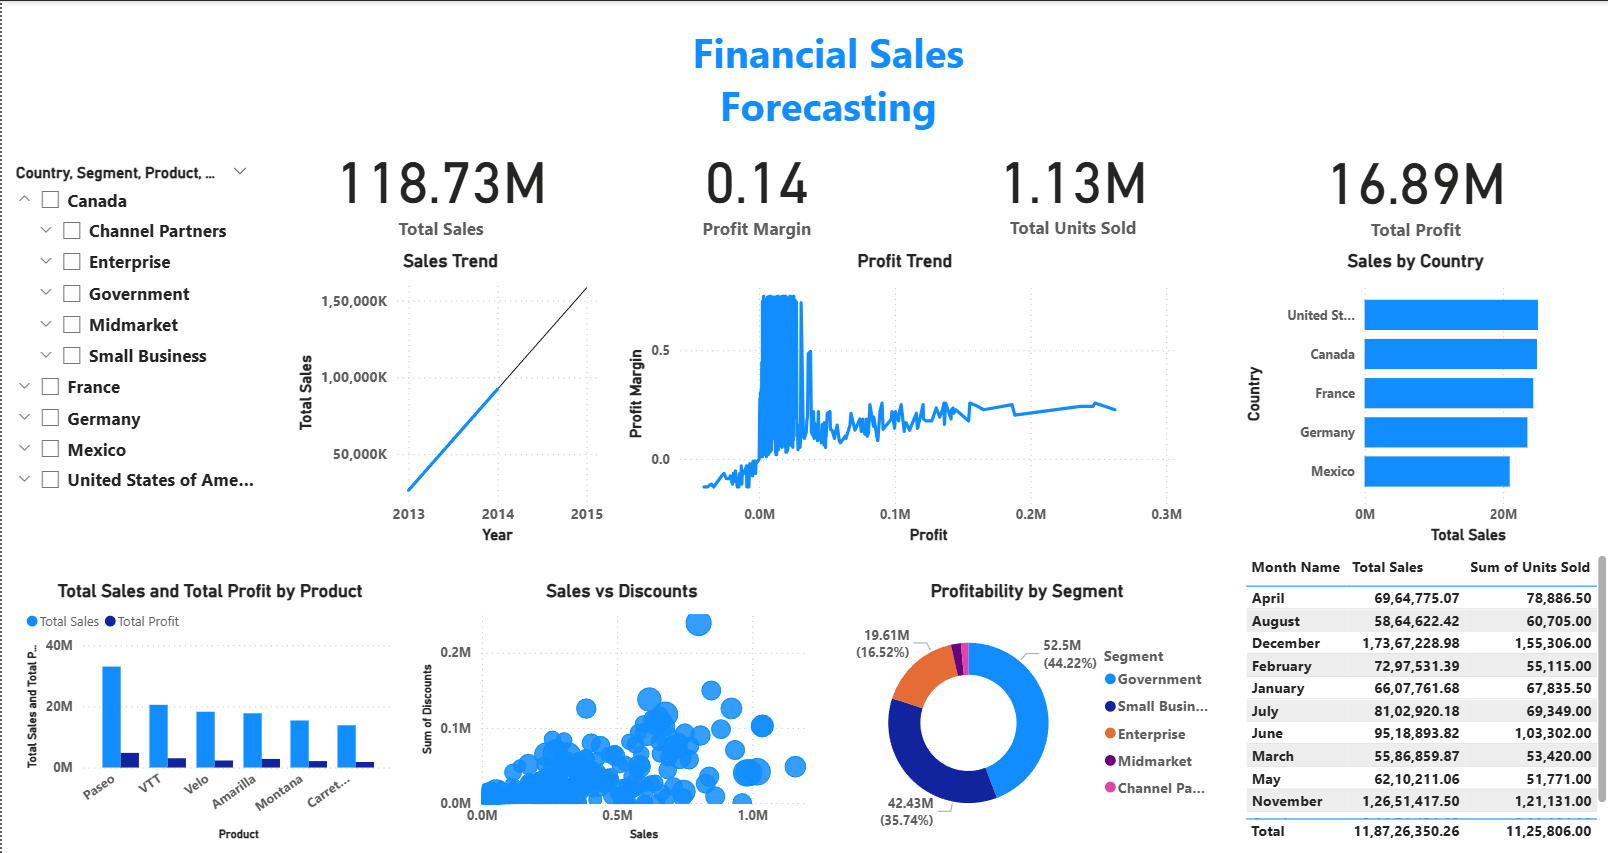

Layout of this report page (visuals, bound fields, positions):
{"tool":"powerbi","page":{"name":"FINANCIAL SALES FORECASTING","canvas":[1500,800],"ordinal":0},"visuals":[{"type":"lineChart","title":"Sales Trend","fields":{"Category":["Financials.Date.Variation.Date Hierarchy.Year","Financials.Date.Variation.Date Hierarchy.Quarter","Financials.Date.Variation.Date Hierarchy.Month","Financials.Date.Variation.Date Hierarchy.Day"],"Y":["Financials.Total Sales"]},"box":[269.8,231.7,295.7,279.3],"z":0},{"type":"card","fields":{"Values":["Financials.Total Sales"]},"box":[283.9,123.9,250.2,99.9],"z":1000},{"type":"card","fields":{"Values":["Financials.Total Profit"]},"box":[1201.9,123.9,231,101.1],"z":2000},{"type":"card","fields":{"Values":["Financials.Profit Margin"]},"box":[626.8,115.5,154,116.7],"z":3000},{"type":"card","fields":{"Values":["Financials.Total Units Sold"]},"box":[868.6,122.7,258.7,101.1],"z":4000},{"type":"lineChart","title":"Profit Trend","fields":{"Category":["Financials.Profit"],"Y":["Financials.Profit Margin"]},"box":[577.8,231.7,527.3,279.3],"z":5000},{"type":"barChart","title":"Sales by Country","fields":{"Category":["Financials.Country"],"Y":["Financials.Total Sales"]},"box":[1152.8,231.7,328.4,279.3],"z":6000},{"type":"clusteredColumnChart","fields":{"Category":["Financials.Product"],"Y":["Financials.Total Sales","Financials.Total Profit"]},"box":[17.7,539.6,352.9,248],"z":7000},{"type":"scatterChart","title":"Sales vs Discounts","fields":{"Size":["Sum(Financials.Units Sold)"],"X":["Financials. Sales"],"Y":["Sum(Financials.Discounts)"]},"box":[385.6,539.6,384.3,248],"z":8000},{"type":"donutChart","title":"Profitability by Segment","fields":{"Y":["Financials.Total Sales"],"Category":["Financials.Segment"]},"box":[769.9,539.6,370.6,248],"z":9000},{"type":"tableEx","fields":{"Values":["Financials.Month Name","Financials.Total Sales","Sum(Financials.Units Sold)"]},"box":[1152.8,511,347.5,276.6],"z":10000},{"type":"slicer","fields":{"Values":["Financials.Country","Financials.Segment","Financials.Product","Financials.Month Name","Financials.Discount Band"]},"box":[0,146.3,240.6,340.5],"z":11000},{"type":"textbox","box":[561.4,17.5,417,114.2],"z":12000}]}

Visuals, with their boxes in screenshot pixels (x1, y1, x2, y2), scaled from the page's 1500x800 canvas onto the 1608x853 screenshot:
"Sales Trend" lineChart: <bbox>289, 247, 606, 545</bbox>
card - Financials.Total Sales: <bbox>304, 132, 573, 239</bbox>
card - Financials.Total Profit: <bbox>1288, 132, 1536, 240</bbox>
card - Financials.Profit Margin: <bbox>672, 123, 837, 248</bbox>
card - Financials.Total Units Sold: <bbox>931, 131, 1208, 239</bbox>
"Profit Trend" lineChart: <bbox>619, 247, 1185, 545</bbox>
"Sales by Country" barChart: <bbox>1236, 247, 1588, 545</bbox>
clusteredColumnChart - Financials.Product x Financials.Total Sales: <bbox>19, 575, 397, 840</bbox>
"Sales vs Discounts" scatterChart: <bbox>413, 575, 825, 840</bbox>
"Profitability by Segment" donutChart: <bbox>825, 575, 1223, 840</bbox>
tableEx - Financials.Month Name x Financials.Total Sales: <bbox>1236, 545, 1607, 840</bbox>
slicer - Financials.Country x Financials.Segment: <bbox>0, 156, 258, 519</bbox>
textbox: <bbox>602, 19, 1049, 140</bbox>
